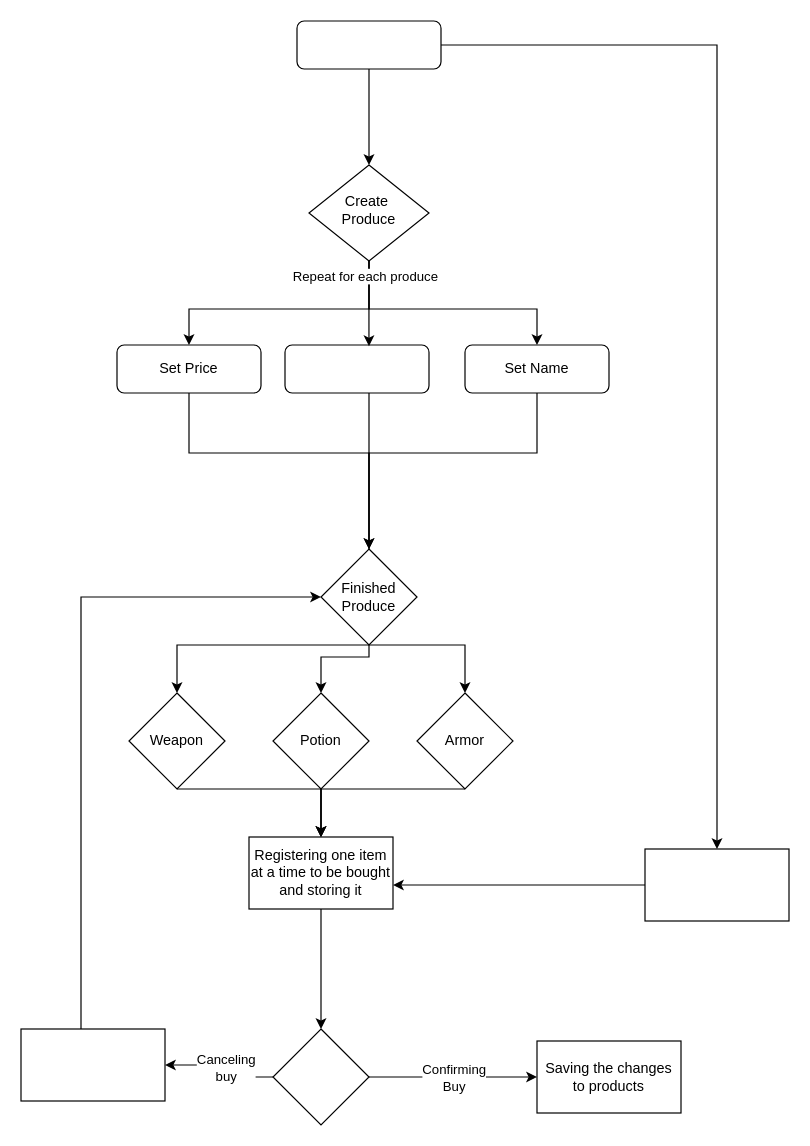
This 810x1146 diagram has some shape labels left out. Each missing label, with the centre of its shape:
Adding quantity back to all products: point (92, 1064)
Player Input: point (716, 884)
Set Quantity: point (356, 368)
Store Opens: point (368, 44)
Subtracting from quantity: point (320, 1076)
